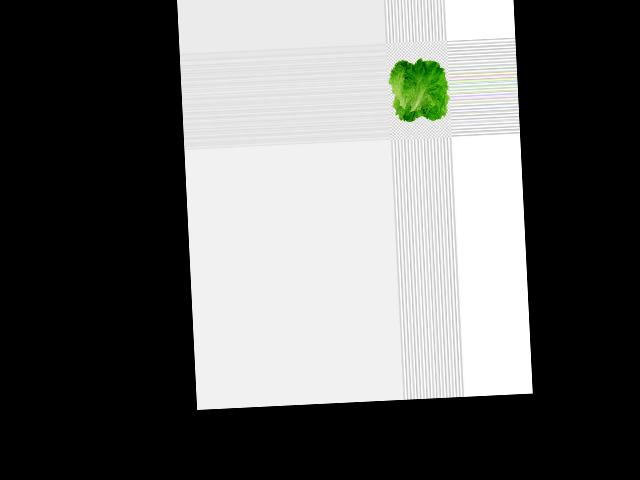lettuce: (386, 53, 451, 127)
